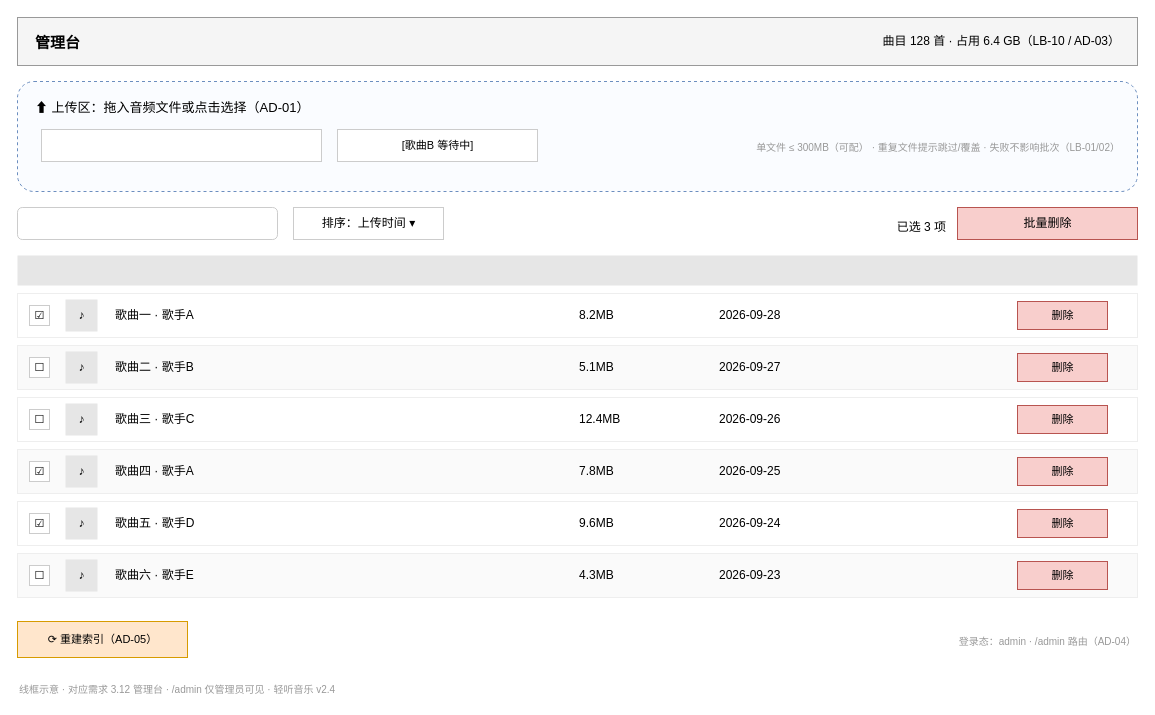
Some shapes in this 1155 by 715 pixel diagram are drawn without their labels. The centre of each missing label's shape, as x and y in pixels:
"[歌曲A ████░░ 67%]" goes at pixel 181 145.
"☑ 封面 歌名 / 歌手 大小 上传时间 操作" goes at pixel 577 270.
"🔍 搜索曲库…" goes at pixel 147 223.
